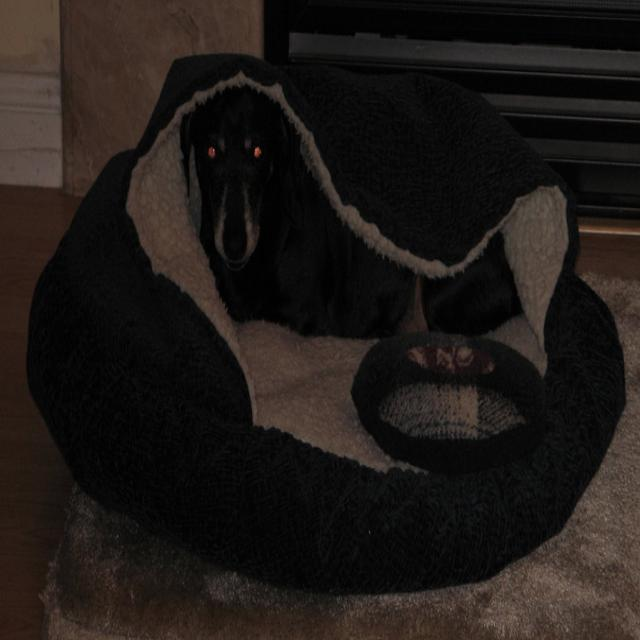Dog: (63, 66, 447, 426)
